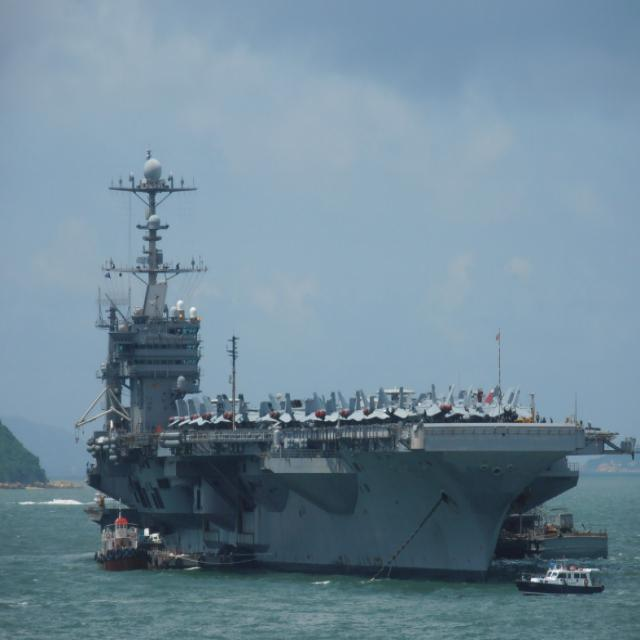Portanaves: (74, 142, 640, 590)
